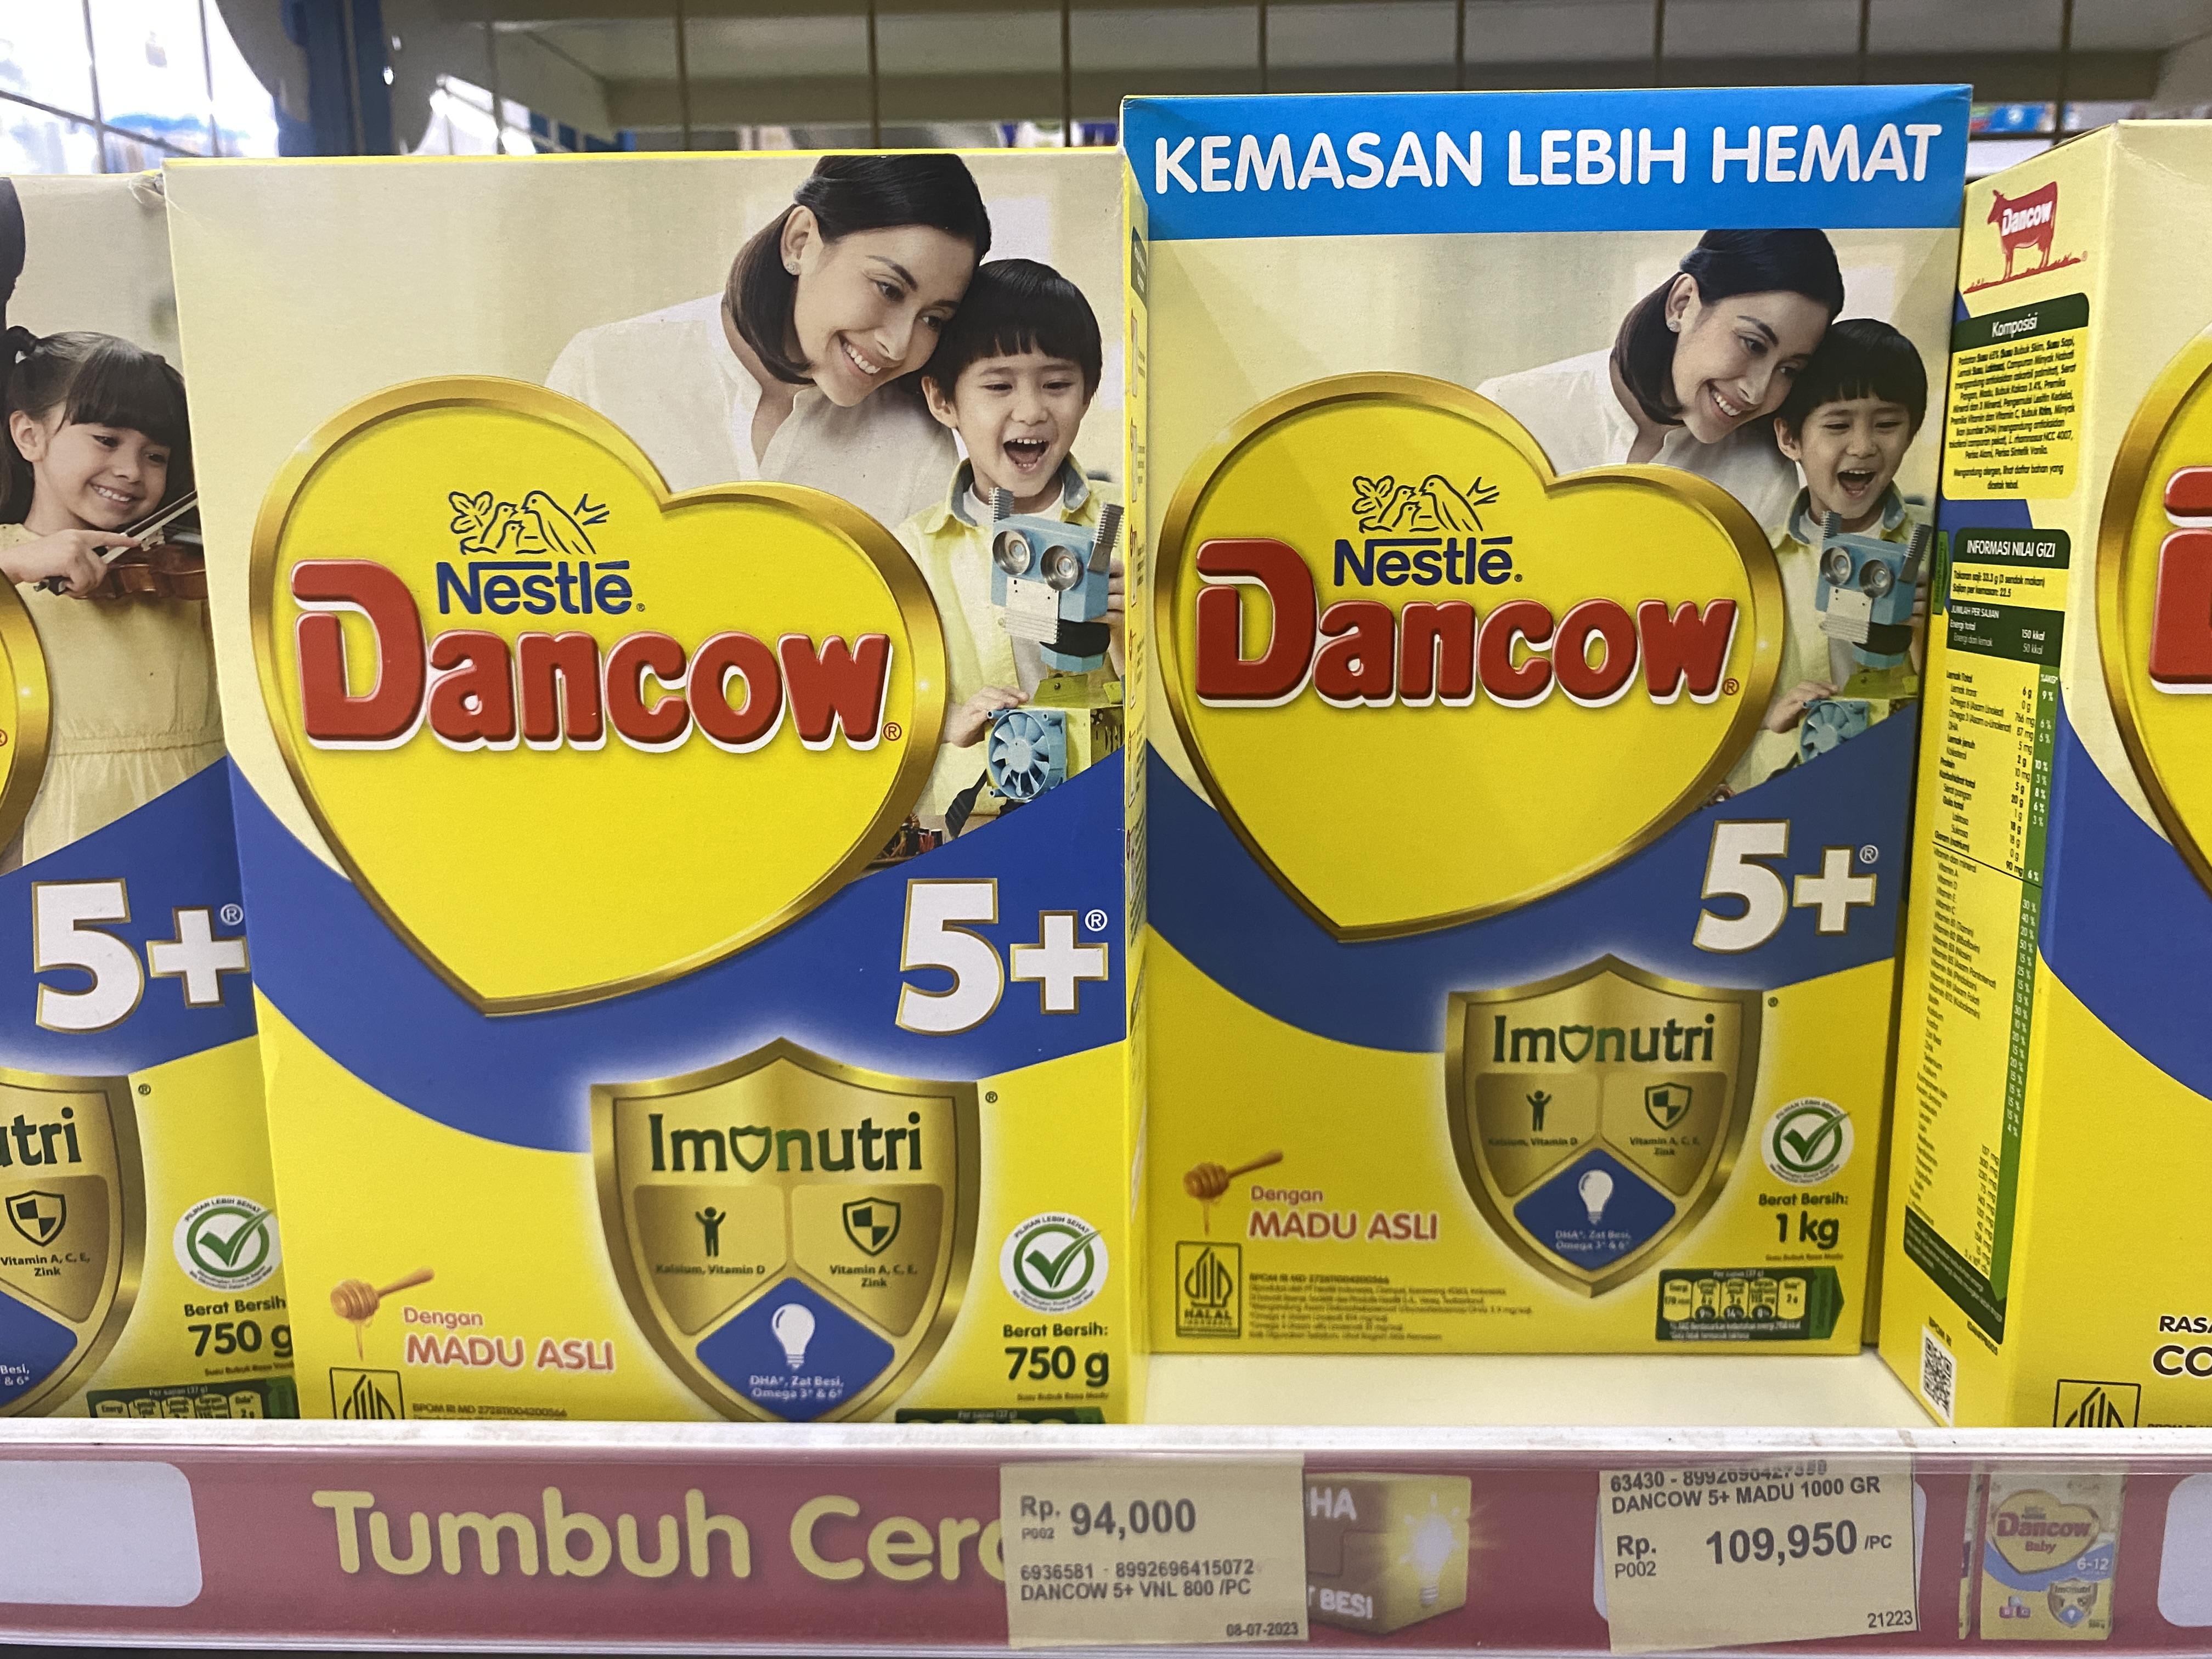DANCOW 5+ Madu Advn ExcNutr 12x1000g ID_REDESIGN3: (1146, 223, 1968, 1352)
DANCOW 5+ Madu Advn ExcNutr 12x800g ID_REDESIGN3: (167, 155, 1141, 1432)
